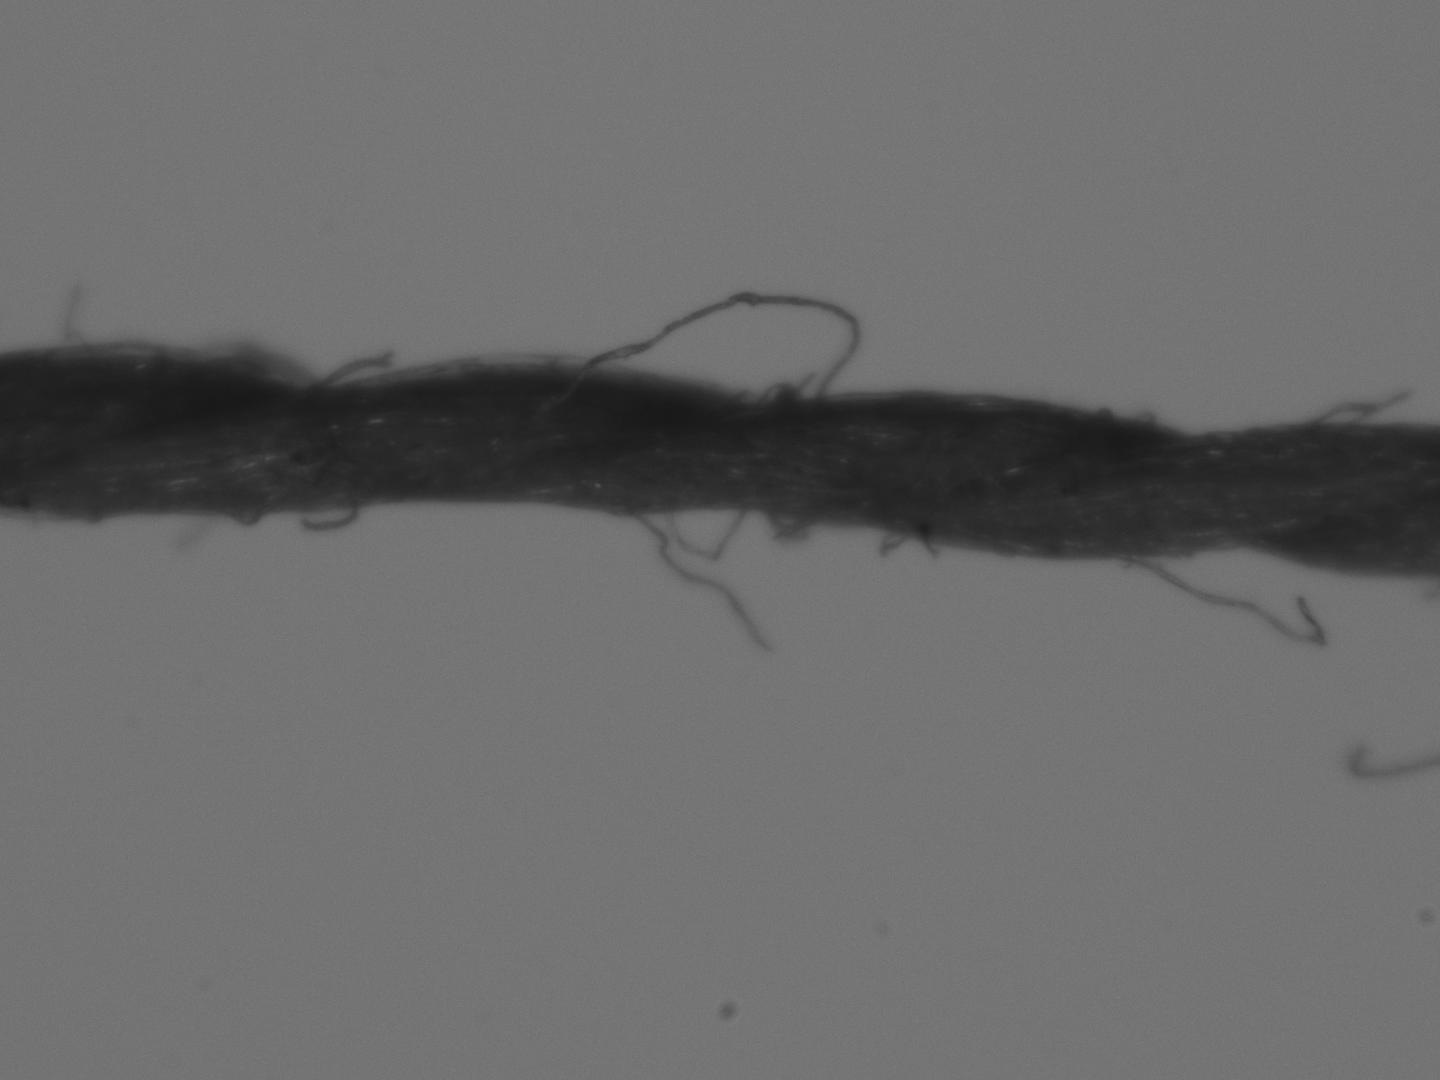loop_fiber: (562, 292, 866, 407), (9, 335, 320, 386), (664, 498, 752, 562), (1291, 387, 1412, 431), (759, 507, 821, 541), (874, 529, 920, 558), (211, 511, 272, 531)
protruding_fiber: (619, 504, 779, 652), (1112, 549, 1331, 646), (320, 349, 403, 385), (59, 279, 87, 356), (300, 498, 358, 535)
